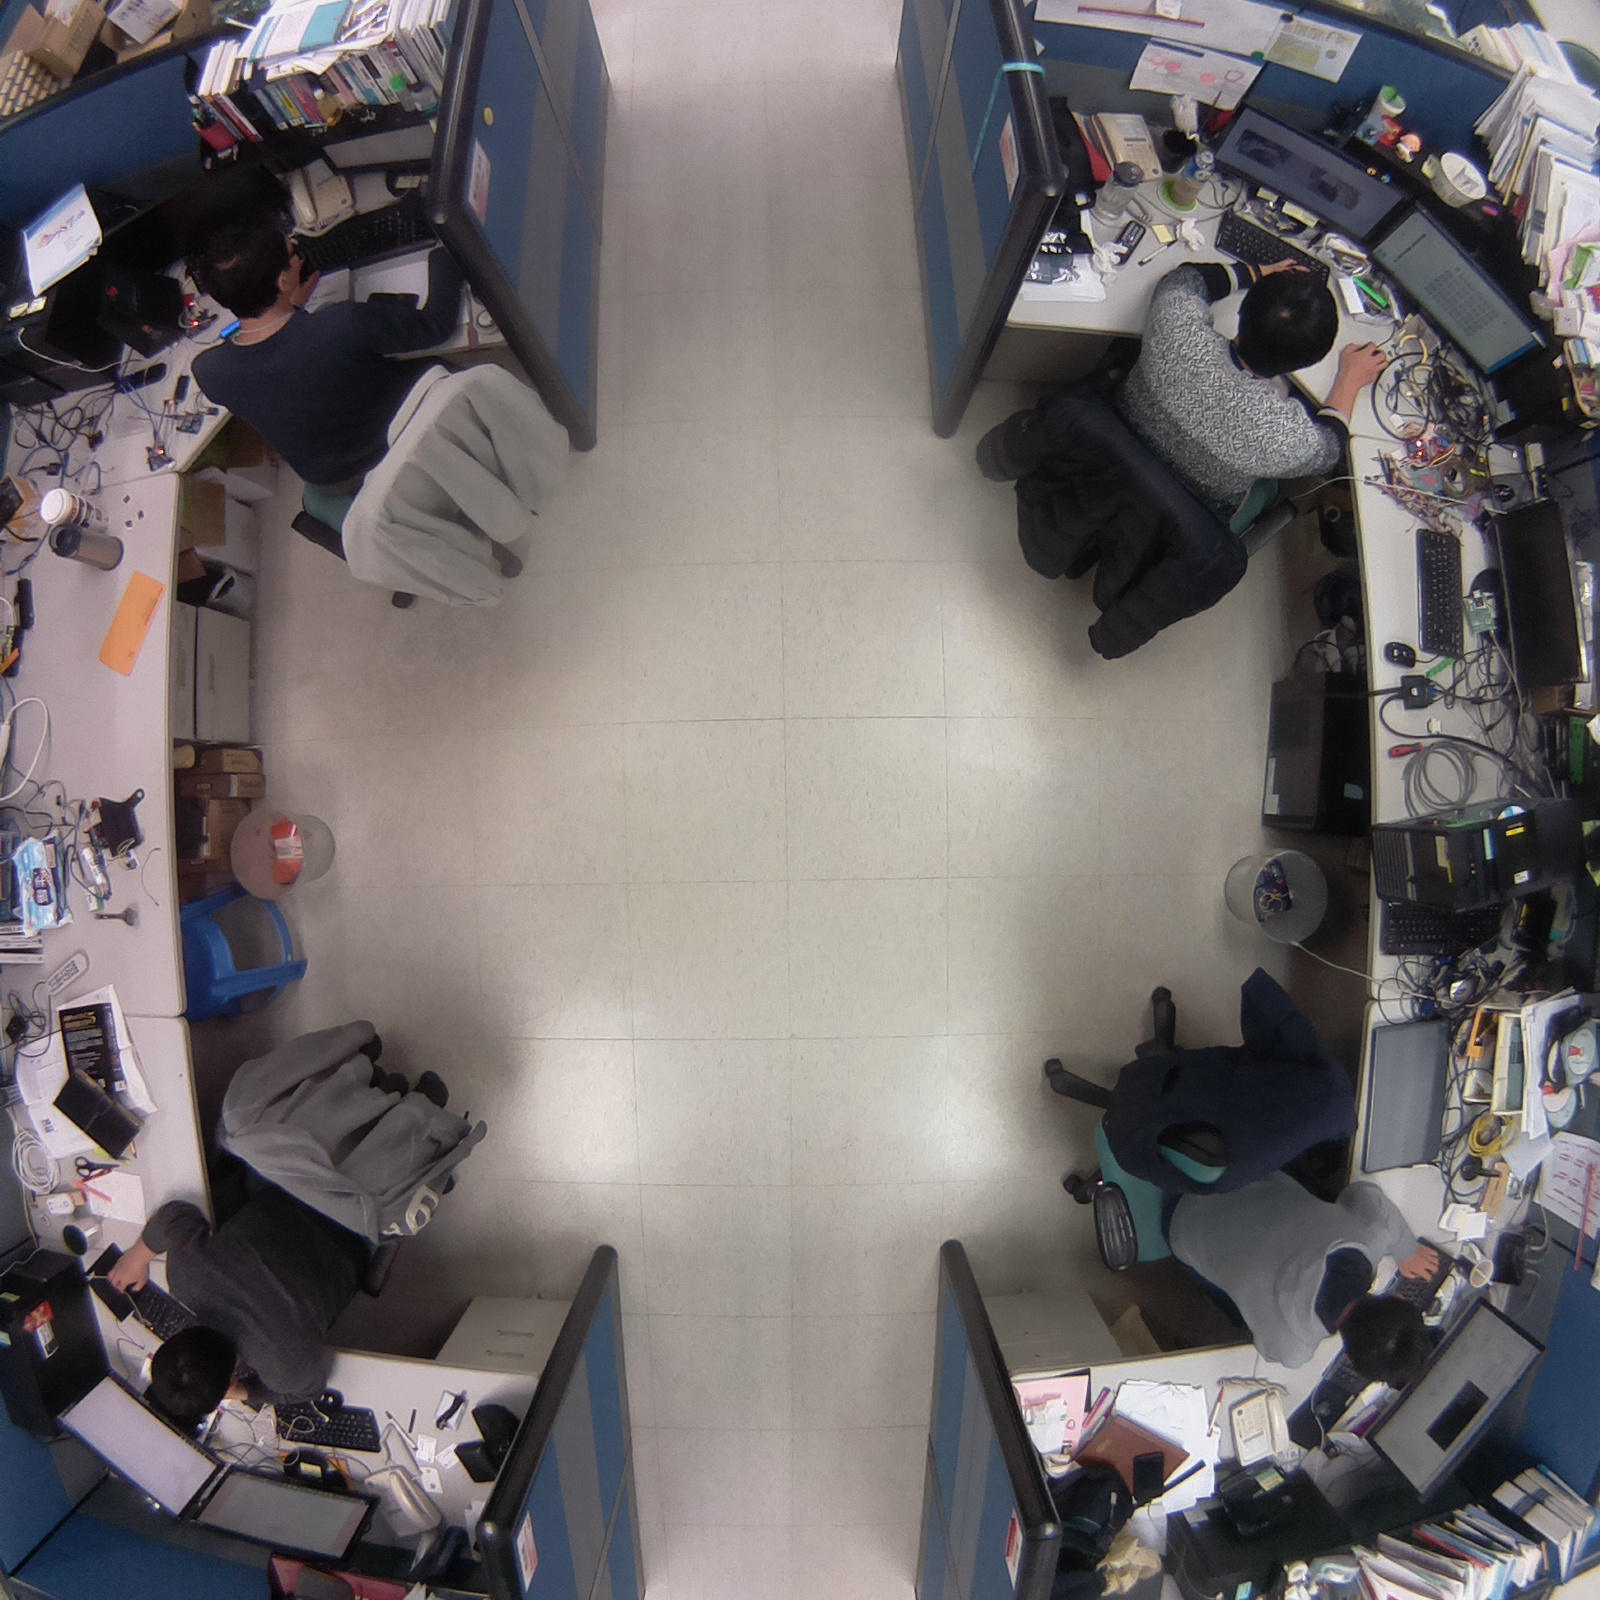sitting: (1032, 949, 1462, 1410), (970, 226, 1396, 677), (92, 1007, 508, 1467), (160, 193, 592, 634)
